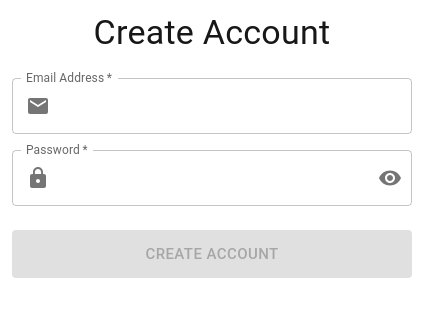
EmailAuthForm › Form Validation › should validate password on blur for signup mode
Click the password field labelled "Password": (210,178) [58,150,362,206]
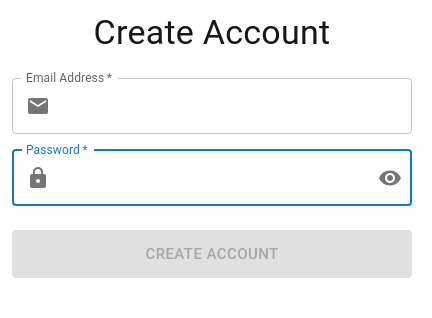
Press Tab
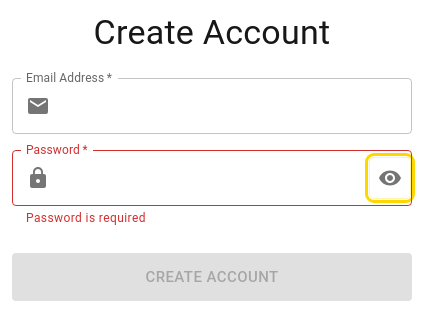
Expected: the text "Password is required" is shown, [26,211,146,225]
